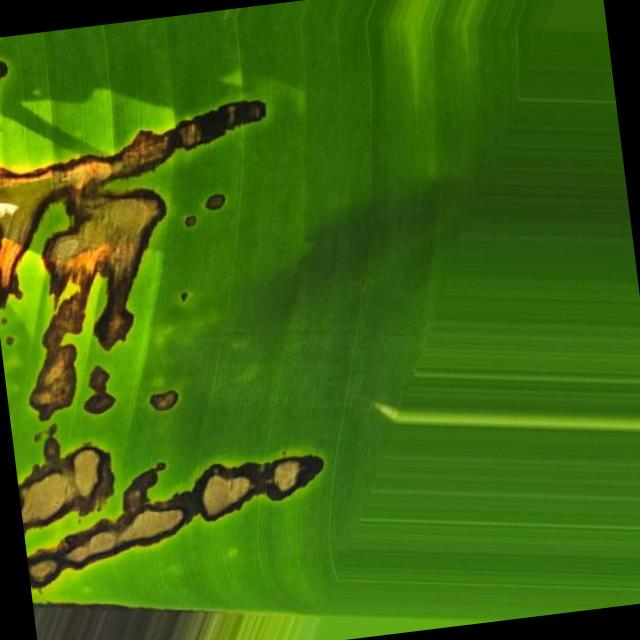Banana_Black_Sigatoka: (0, 55, 335, 604)
